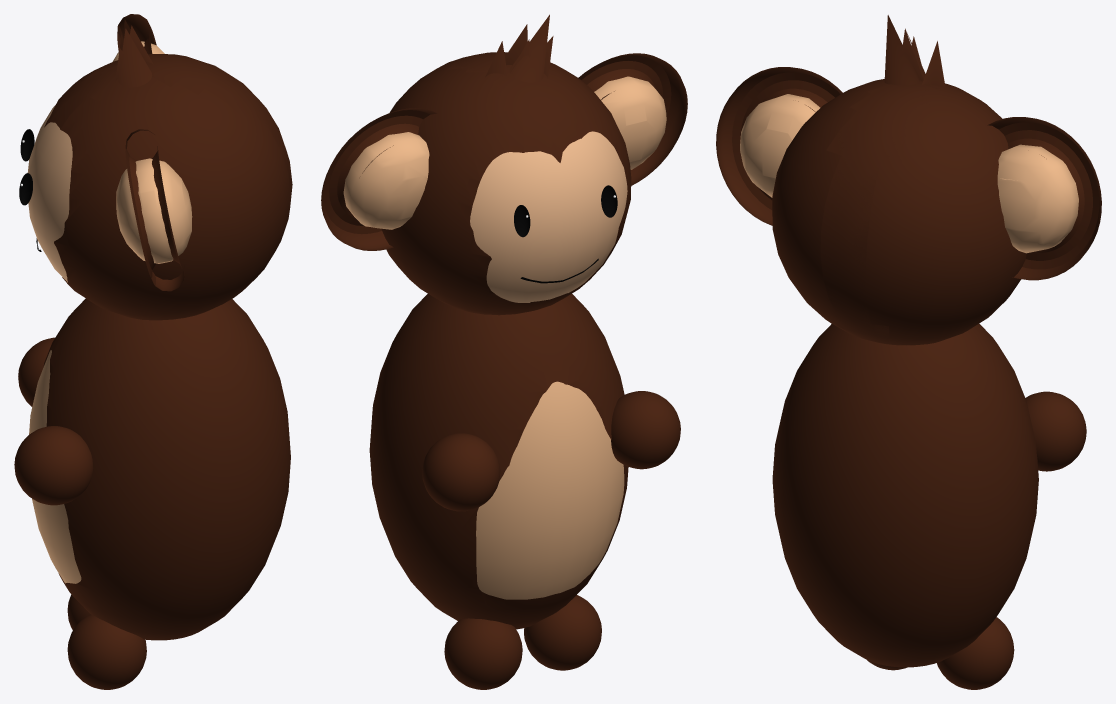
The model's file is MonkeyDraftOG.fbx.
The picture shows the model from 3 angles, left to right: view 1: azimuth 30°, elevation 25°; view 2: azimuth 150°, elevation 25°; view 3: azimuth 270°, elevation 25°; orthographic projection. The views are drawn at different scales.
Parts seen in each view (by area): view 1: Sphere.008, Sphere.002, Torus, Sphere.010, Sphere, Sphere.009, Sphere.003, Cone.001, Sphere.011, Sphere.001; view 2: Sphere.008, Sphere.002, Sphere.003, Torus, Sphere, Sphere.011, Sphere.001, Sphere.010, Sphere.009, Cone.001; view 3: Sphere.008, Sphere.002, Torus, Sphere.011, Sphere.001, Cone.001.
Boxes of the visible parts, x1,y1,x2,y2 form: Sphere.008: (43, 298, 290, 640); Sphere.002: (44, 54, 292, 320); Torus: (112, 14, 192, 291); Sphere.010: (14, 426, 93, 505); Sphere: (27, 105, 72, 282); Sphere.009: (67, 614, 146, 689); Sphere.003: (29, 350, 81, 583); Cone.001: (115, 19, 153, 87); Sphere.011: (18, 337, 54, 406); Sphere.001: (67, 594, 90, 629); Sphere.008: (369, 294, 628, 629); Sphere.002: (381, 52, 631, 315); Sphere.003: (476, 381, 624, 599); Torus: (321, 53, 687, 250); Sphere: (470, 131, 627, 302); Sphere.011: (422, 433, 500, 511); Sphere.001: (444, 618, 522, 689); Sphere.010: (611, 391, 680, 469); Sphere.009: (524, 595, 601, 670); Cone.001: (485, 14, 553, 82); Sphere.008: (772, 323, 1038, 667); Sphere.002: (772, 79, 1026, 345); Torus: (716, 67, 1101, 280); Sphere.011: (1025, 391, 1086, 471); Sphere.001: (937, 617, 1014, 689); Cone.001: (884, 15, 945, 89).
Bounding box in the file's own units: 239 × 547 × 290.
